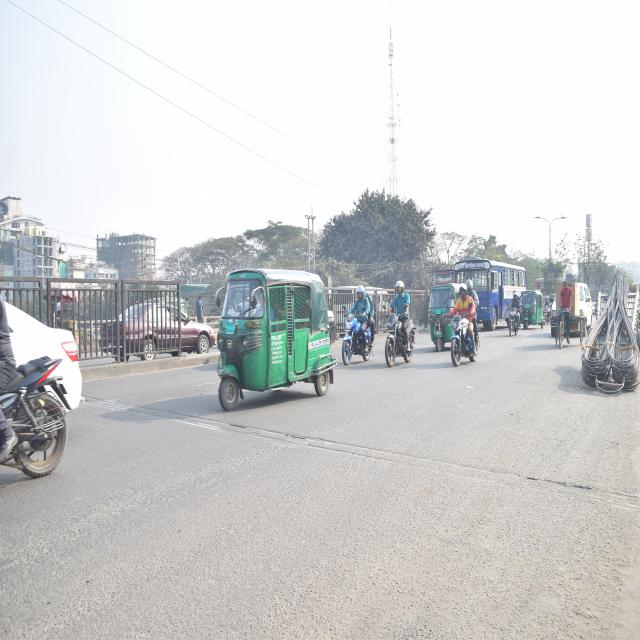bus: (455, 255, 531, 328)
car: (106, 284, 215, 367)
motorbike: (0, 337, 77, 501), (443, 296, 483, 376), (336, 298, 376, 375), (380, 292, 416, 375), (506, 293, 522, 339)
